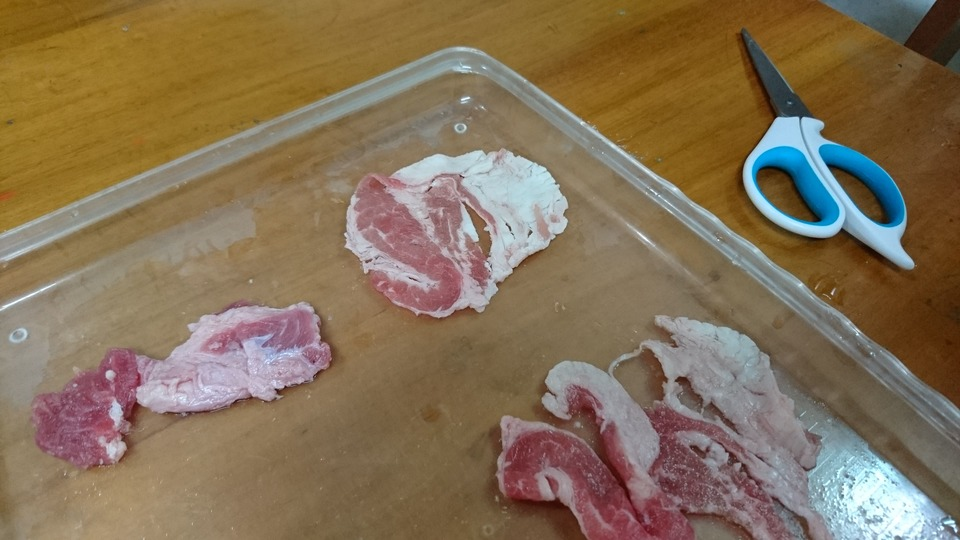restructured meat: (495, 315, 829, 540), (31, 301, 332, 469), (344, 145, 567, 319)
